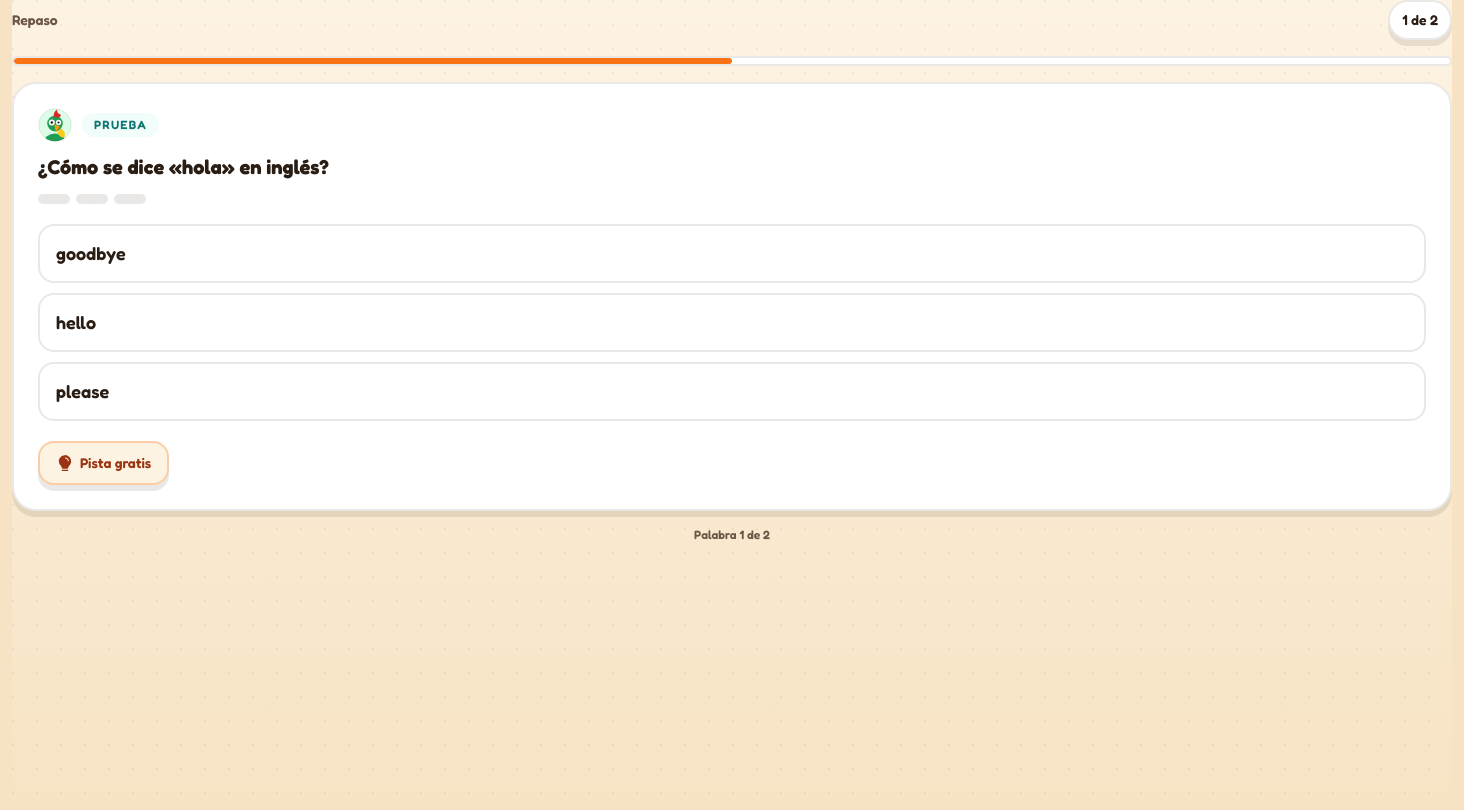
Test: ReviewSession › reviews two words, saves each answer and reaches the summary
expect the text "1 de 2" is shown: met, box x1=1388 y1=0 x2=1452 y2=40
What coordinates should you click on to do the following:
click the button "hello"
I would click on:
 (76, 322)
Its box is x1=38 y1=292 x2=1426 y2=352.
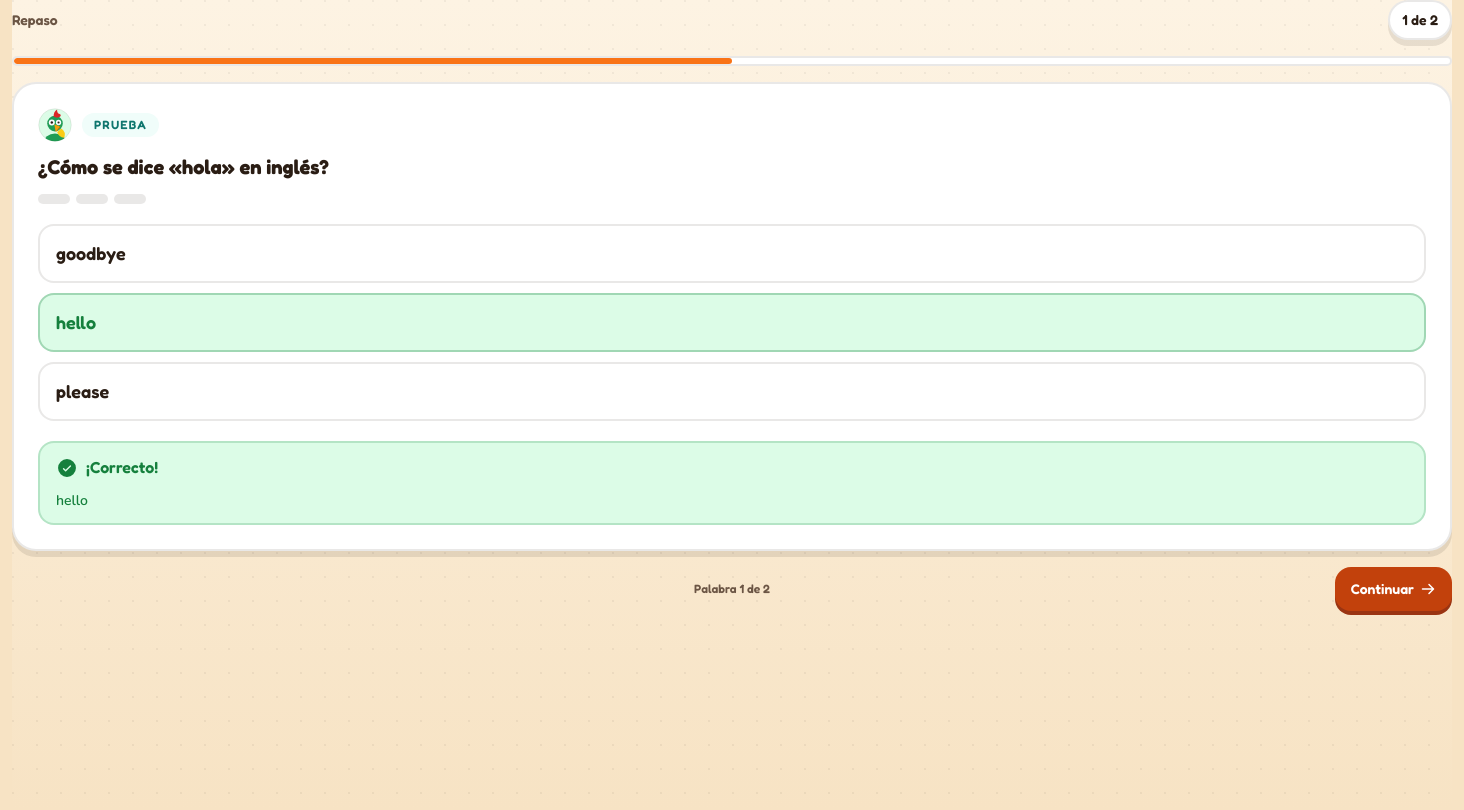
What coordinates should you click on to do the following:
click the button "Continuar"
I would click on:
 (1393, 588)
Its box is x1=1335 y1=566 x2=1452 y2=610.
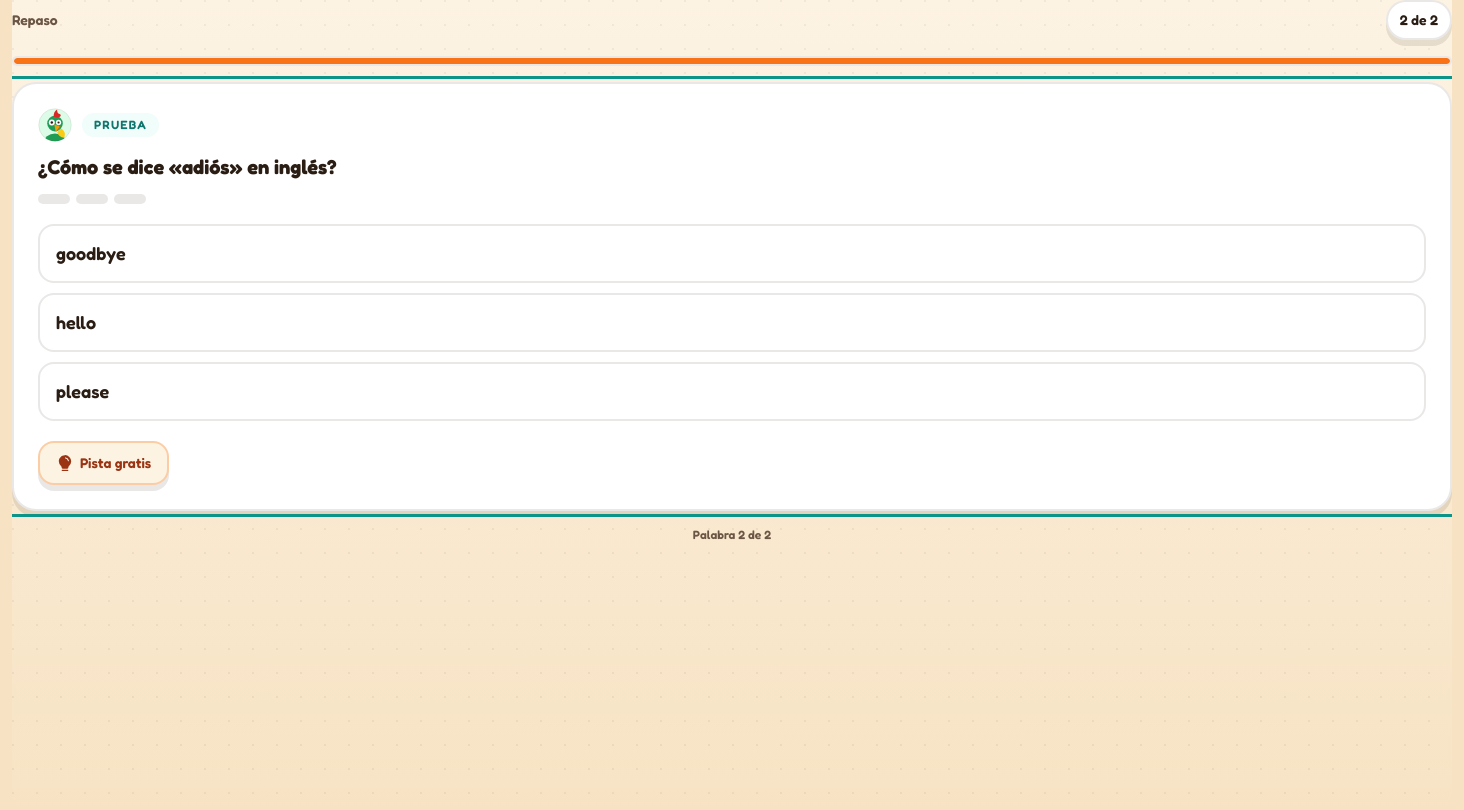
expect the text "2 de 2" is shown: met, box x1=1386 y1=0 x2=1452 y2=40
What coordinates should you click on to do the following:
click the button "goodbye"
I would click on:
 (91, 252)
Its box is x1=38 y1=224 x2=1426 y2=282.
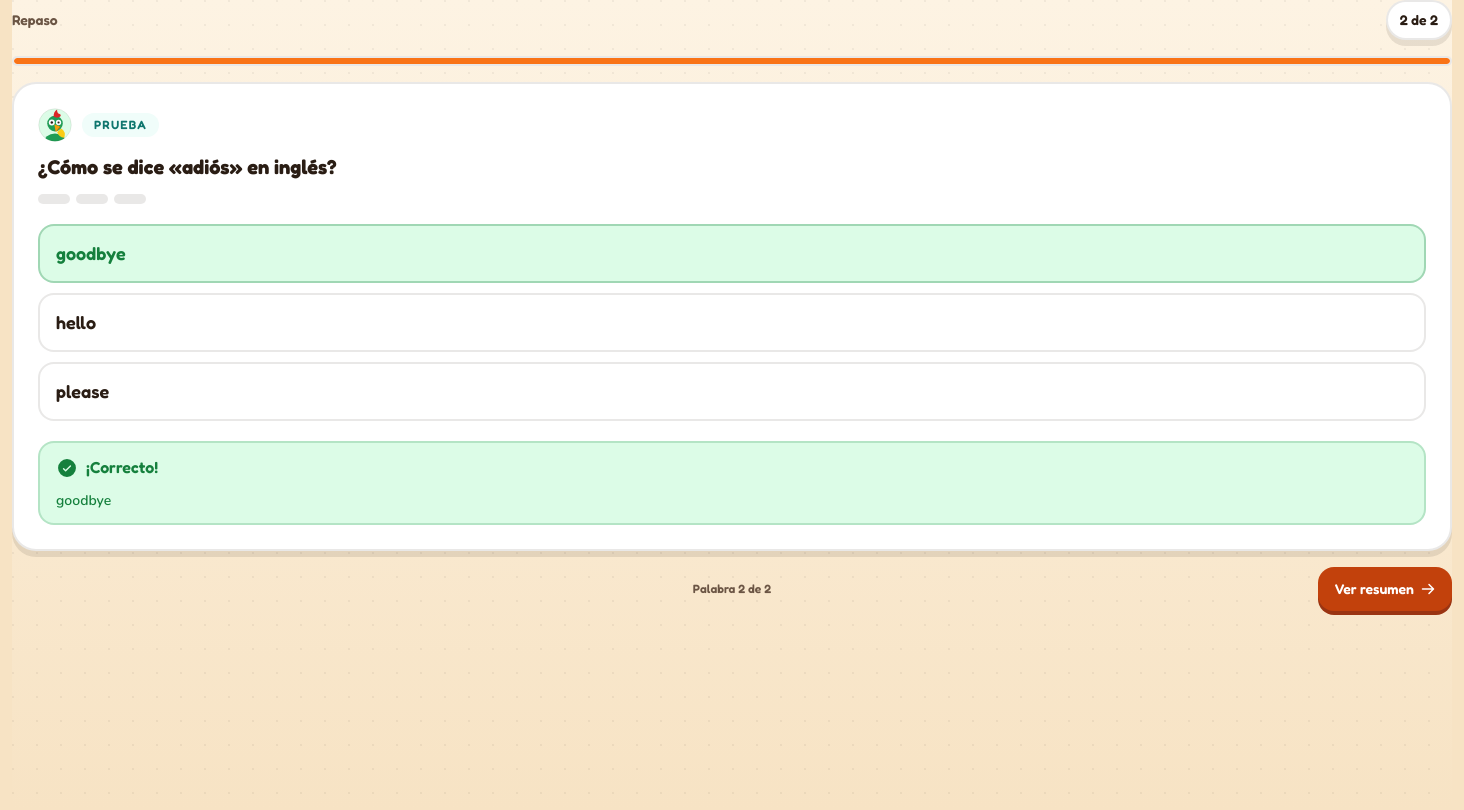
What coordinates should you click on to do the following:
click the button "Ver resumen"
I would click on:
 (1385, 588)
Its box is x1=1318 y1=566 x2=1452 y2=610.
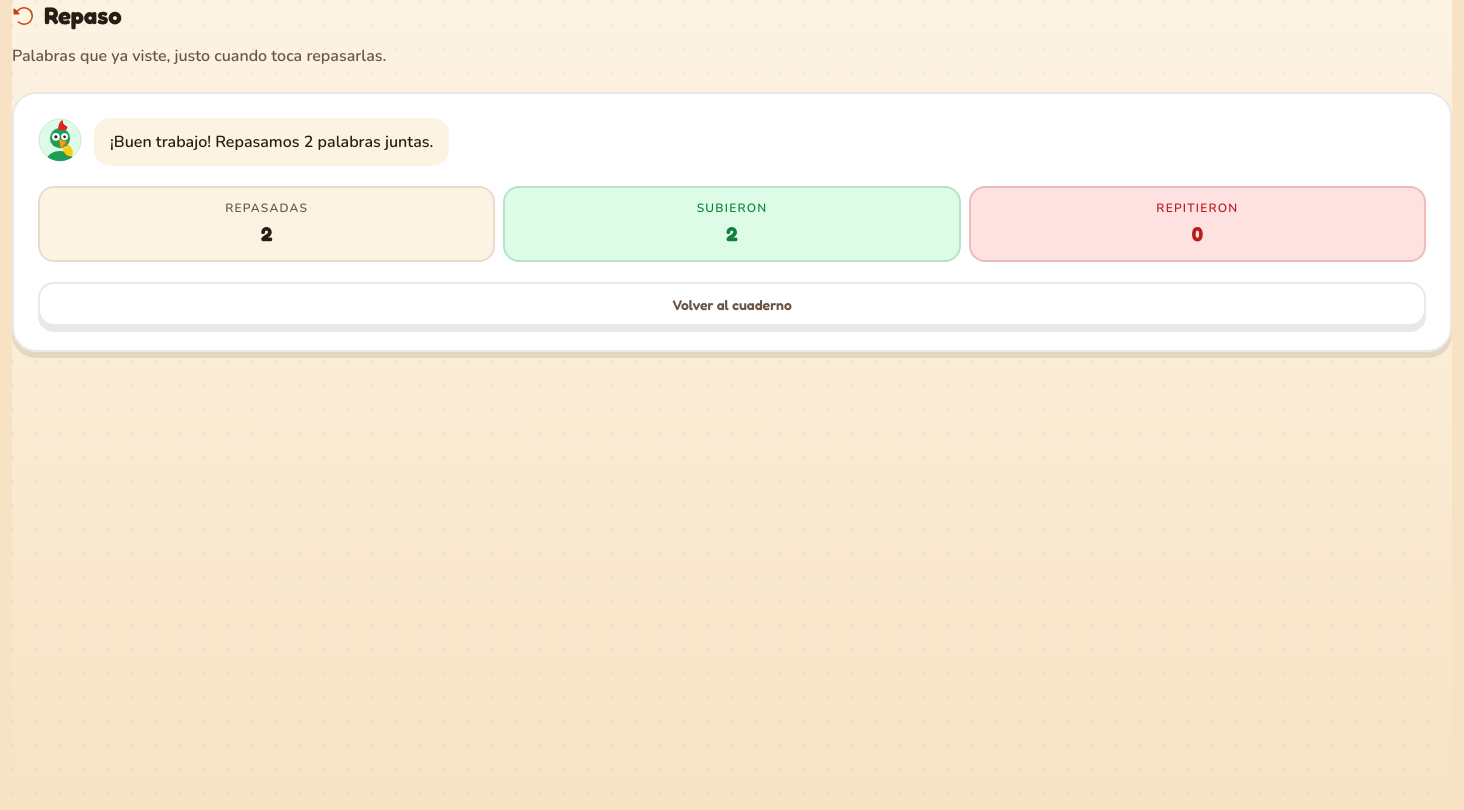
expect the text "¡Buen trabajo! Repasamos 2 palabras juntas." is shown: met, box x1=94 y1=118 x2=449 y2=166
expect the text "Repasadas" is shown: met, box x1=225 y1=200 x2=308 y2=216
expect the link "Volver al cuaderno" is shown: met, box x1=38 y1=282 x2=1426 y2=326
